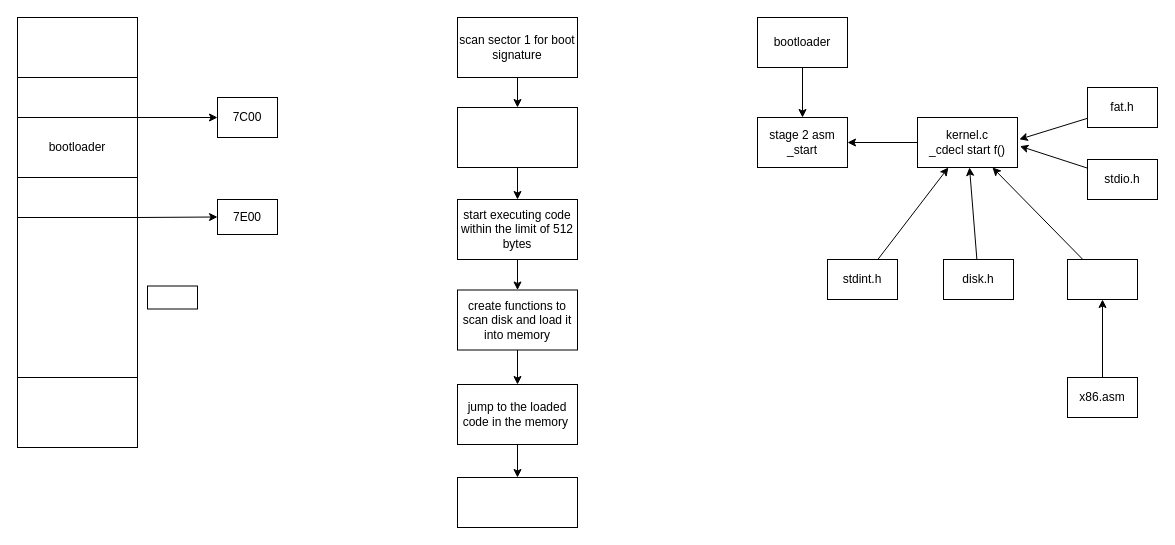
This 1175x545 diagram has some shape labels left out. Each missing label, with the centre of its shape:
500KiB: the point at 172,297
_cdecl to link c programs to asm code: the point at 517,502
boot signature: the point at 77,197
free usable space: the point at 77,297
load into memory and scan for filesystem type: the point at 517,137
stack: the point at 77,97
x86.h: the point at 1102,279
